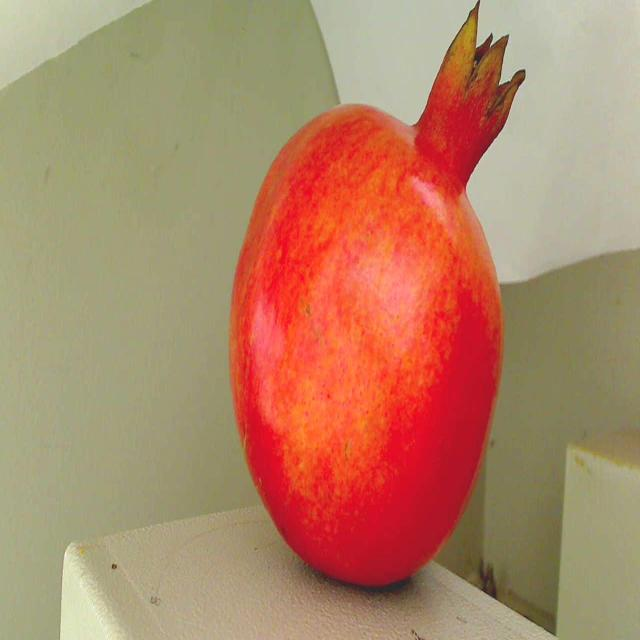pomegranate: (221, 0, 534, 598)
